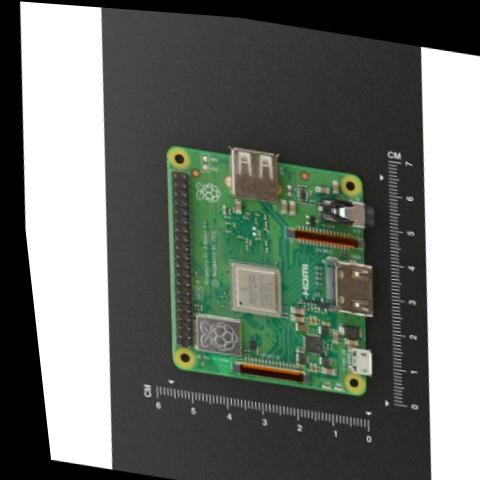Raspberry-Pi-3-Model-A-: (137, 126, 399, 403)
